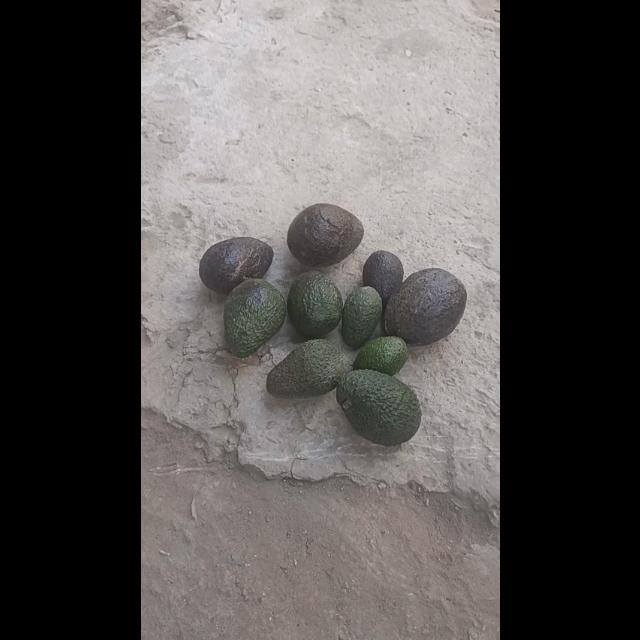Primera: (384, 267, 466, 345), (336, 368, 420, 444), (221, 278, 285, 356), (285, 202, 363, 266), (198, 236, 272, 292)
Segunda: (266, 338, 348, 396), (286, 270, 342, 338)
Tercera: (340, 286, 382, 348), (361, 248, 404, 306), (351, 336, 407, 376)
